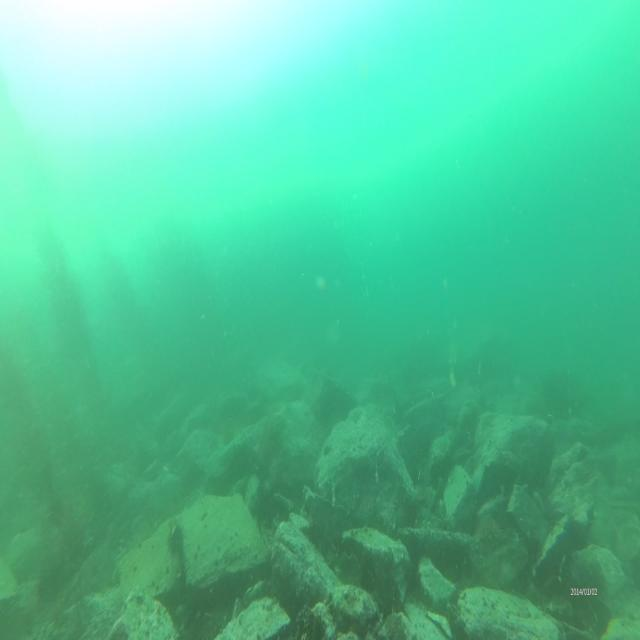echinus: (166, 522, 185, 558)
